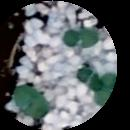Basil: (15, 84, 45, 123), (62, 28, 99, 48), (97, 73, 117, 105), (80, 69, 99, 89)
